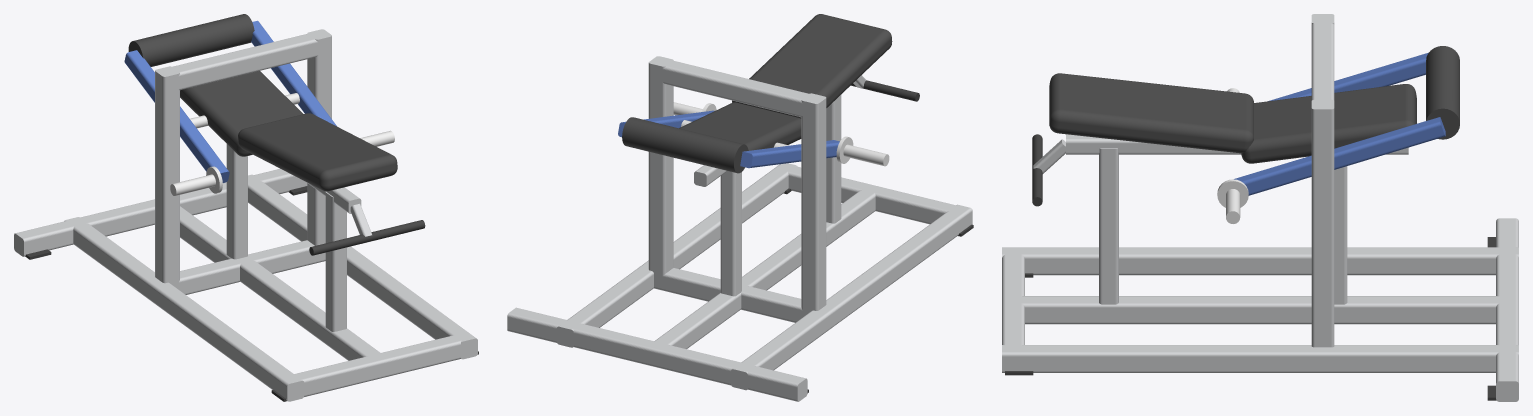
The picture shows the model from 3 angles, left to right: view 1: azimuth 30°, elevation 25°; view 2: azimuth 150°, elevation 25°; view 3: azimuth 270°, elevation 25°; orthographic projection. The views are drawn at different scales.
Visible parts, largest first — view 1: base, lever_support, bench_pad_front, bench, bench_pad_rear, top_crossbar, lever_roller, frame, lever_bar (×2), lever_tail (×2), lever_horn; view 2: base, lever_support, bench_pad_front, bench, top_crossbar, lever_roller, bench_pad_rear, frame, lever_bar, lever_horn; view 3: base, bench_pad_front, bench, bench_pad_rear, lever_bar (×2), lever_support, lever_roller, frame, top_crossbar, lever_tail, lever_horn.
Part boxes in pixels (bbox=[...]): base: bbox=[14, 168, 478, 401]; lever_support: bbox=[155, 94, 331, 294]; bench_pad_front: bbox=[238, 113, 397, 191]; bench: bbox=[226, 144, 425, 331]; bench_pad_rear: bbox=[180, 71, 303, 156]; top_crossbar: bbox=[172, 32, 318, 90]; lever_roller: bbox=[128, 14, 254, 66]; frame: bbox=[155, 29, 331, 135]; lever_bar (×2): bbox=[124, 20, 309, 121]; lever_tail (×2): bbox=[180, 90, 336, 182]; lever_horn: bbox=[170, 166, 222, 195]; base: bbox=[507, 163, 973, 401]; lever_support: bbox=[648, 151, 826, 322]; bench_pad_front: bbox=[732, 14, 892, 118]; bench: bbox=[694, 75, 919, 296]; top_crossbar: bbox=[656, 59, 808, 117]; lever_roller: bbox=[622, 117, 748, 173]; bench_pad_rear: bbox=[679, 102, 801, 150]; frame: bbox=[648, 56, 826, 162]; lever_bar: bbox=[740, 145, 801, 168]; lever_horn: bbox=[836, 136, 889, 166]; base: bbox=[1002, 218, 1518, 401]; bench_pad_front: bbox=[1049, 73, 1253, 153]; bench: bbox=[1032, 134, 1408, 304]; bench_pad_rear: bbox=[1241, 84, 1416, 163]; lever_bar (×2): bbox=[1334, 52, 1445, 169]; lever_support: bbox=[1311, 176, 1334, 348]; lever_roller: bbox=[1426, 46, 1459, 139]; frame: bbox=[1311, 14, 1334, 176]; top_crossbar: bbox=[1311, 19, 1334, 104]; lever_tail: bbox=[1234, 155, 1311, 195]; lever_horn: bbox=[1217, 179, 1248, 223].
Size of the model in its own units: 1.35 by 1 by 1.81.
